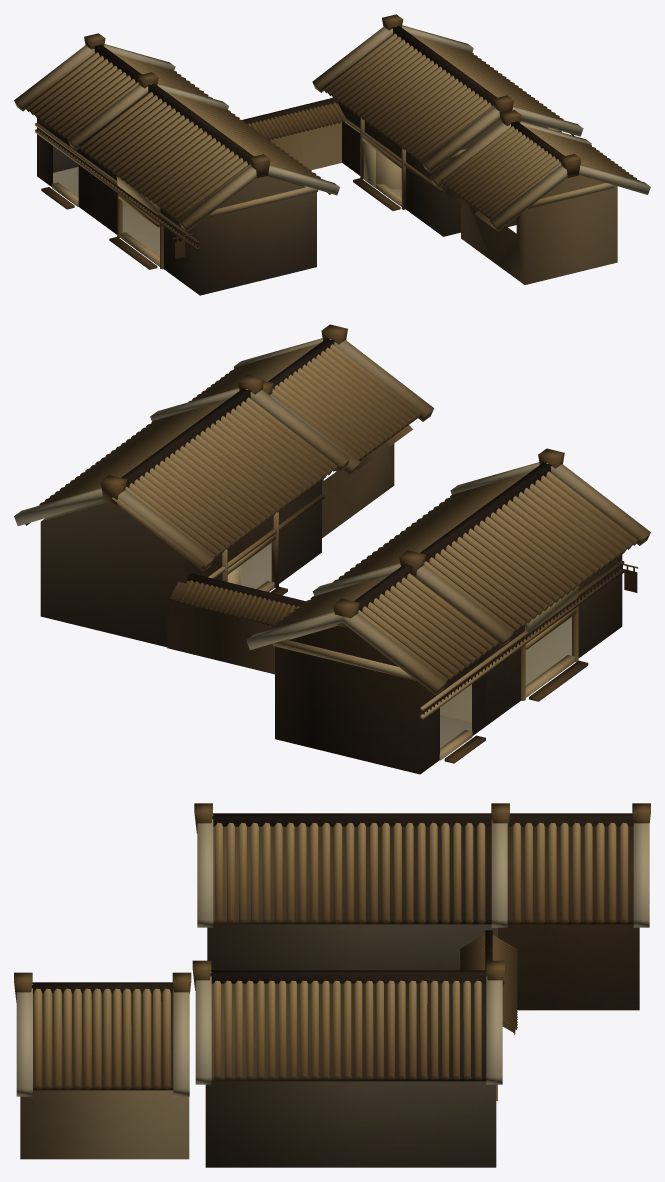
Rendered from house.obj.
The picture shows the model from 3 angles, top to bottom: view 1: azimuth 30°, elevation 25°; view 2: azimuth 150°, elevation 25°; view 3: azimuth 270°, elevation 25°; orthographic projection. The views are drawn at different scales.
Visible parts, largest first — view 1: ??135, ??022, ??164, ??001, ??194, ??040, ??206, ??003, ??208, ??026, ??124, ??025 (+28 smaller); view 2: ??135, ??040, ??010, ??164, ??194, ??206, ??022, ??025, ??001, ??208, ??052, ??003 (+22 smaller); view 3: ??206, ??040, ??208, ??207, ??022, ??001, ??003, ??036, ??010, ??009, Box001, Box015 (+11 smaller).
Boxes of the visible parts, x1=… form: ??135: x1=25, y1=52, x2=250, y2=220; ??022: x1=90, y1=157, x2=316, y2=295; ??164: x1=323, y1=33, x2=493, y2=161; ??001: x1=444, y1=175, x2=617, y2=284; ??194: x1=440, y1=126, x2=561, y2=219; ??040: x1=338, y1=101, x2=548, y2=236; ??206: x1=114, y1=53, x2=323, y2=179; ??003: x1=79, y1=92, x2=330, y2=220; ??208: x1=413, y1=36, x2=563, y2=119; ??026: x1=179, y1=164, x2=339, y2=231; ??124: x1=489, y1=164, x2=650, y2=231; ??025: x1=270, y1=121, x2=341, y2=170; ??135: x1=358, y1=471, x2=637, y2=682; ??040: x1=40, y1=479, x2=321, y2=647; ??010: x1=275, y1=625, x2=486, y2=774; ??164: x1=125, y1=397, x2=337, y2=557; ??194: x1=272, y1=344, x2=421, y2=460; ??206: x1=266, y1=472, x2=528, y2=630; ??022: x1=486, y1=553, x2=622, y2=725; ??025: x1=167, y1=592, x2=274, y2=674; ??001: x1=322, y1=425, x2=412, y2=537; ??208: x1=37, y1=399, x2=227, y2=506; ??052: x1=246, y1=612, x2=446, y2=695; ??003: x1=429, y1=477, x2=632, y2=630; ??206: x1=215, y1=822, x2=628, y2=924; ??040: x1=205, y1=1081, x2=496, y2=1167; ??208: x1=213, y1=980, x2=482, y2=1080; ??207: x1=34, y1=988, x2=171, y2=1089; ??022: x1=207, y1=924, x2=497, y2=970; ??001: x1=20, y1=1090, x2=189, y2=1159; ??003: x1=213, y1=826, x2=491, y2=924; ??036: x1=211, y1=983, x2=486, y2=1081; ??010: x1=498, y1=924, x2=639, y2=1010; ??009: x1=507, y1=826, x2=633, y2=924; Box001: x1=212, y1=813, x2=633, y2=826; Box015: x1=210, y1=970, x2=486, y2=983.
Bounding box in the file's own units: 282 × 83.75 × 294.
Materials: 1 (1 with a texture image).
